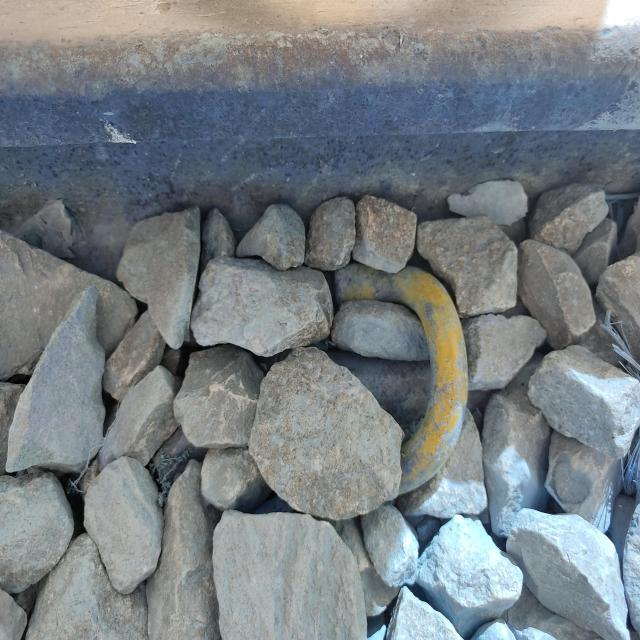Good Fasteners: (330, 262, 468, 494)
